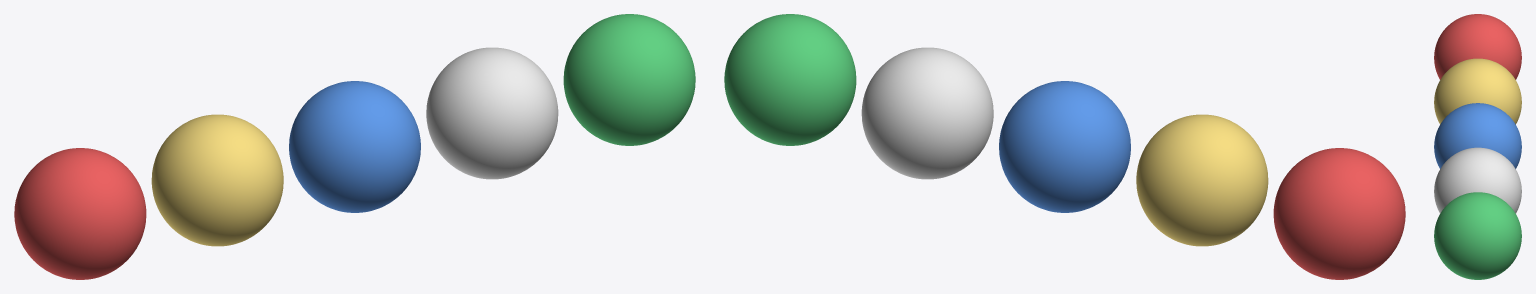
3 views of the same model, side by side, from view 1: azimuth 30°, elevation 25°; view 2: azimuth 150°, elevation 25°; view 3: azimuth 270°, elevation 25° (orthographic). The views are drawn at different scales.
Parts seen in each view (by area): view 1: Sphere.001, Sphere.003, Sphere, Sphere.004, Sphere.002; view 2: Sphere.001, Sphere.003, Sphere, Sphere.004, Sphere.002; view 3: Sphere.004, Sphere, Sphere.001, Sphere.002, Sphere.003.
Boxes of the visible parts, x1,y1,x2,y2 form: Sphere.001: (151, 114, 283, 246); Sphere.003: (426, 47, 558, 179); Sphere: (14, 148, 146, 279); Sphere.004: (563, 14, 695, 145); Sphere.002: (289, 81, 420, 212); Sphere.001: (1136, 114, 1268, 246); Sphere.003: (861, 47, 993, 179); Sphere: (1273, 148, 1405, 279); Sphere.004: (724, 14, 856, 145); Sphere.002: (999, 81, 1130, 212); Sphere.004: (1434, 192, 1521, 279); Sphere: (1434, 14, 1521, 79); Sphere.001: (1434, 58, 1521, 124); Sphere.002: (1434, 103, 1521, 168); Sphere.003: (1434, 147, 1521, 213).
Size of what is drawn, in the model's own units: 11.6 by 2 by 2.
